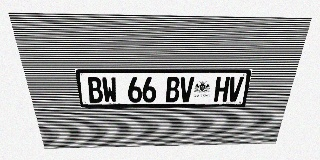6: (127, 77, 142, 103), (142, 77, 156, 102)
B: (86, 77, 104, 103), (166, 77, 180, 102)
H: (214, 77, 230, 102)
V: (227, 77, 244, 102), (179, 77, 194, 102)
W: (101, 77, 118, 103)
